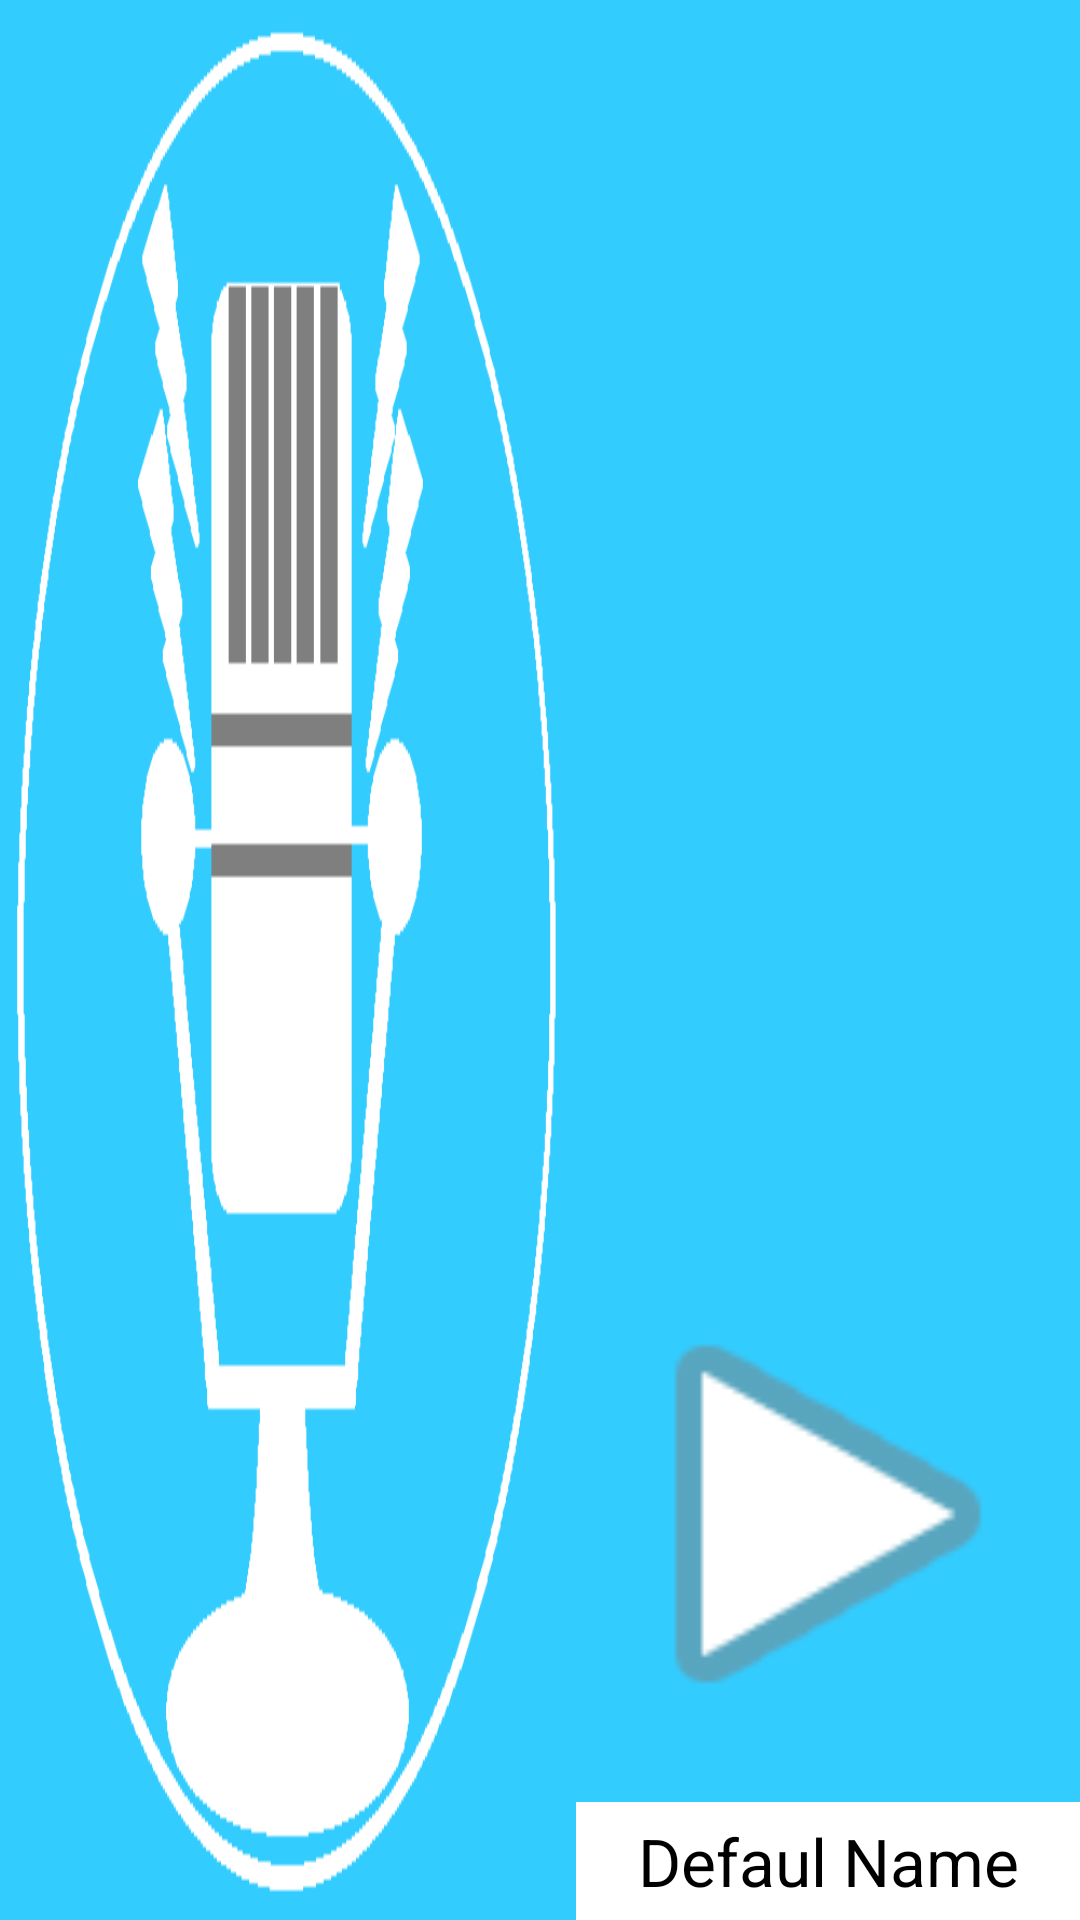

Icon click points for this 1080 x 1920 phone screenshot, format point (x, y):
play: point (828, 1514)
